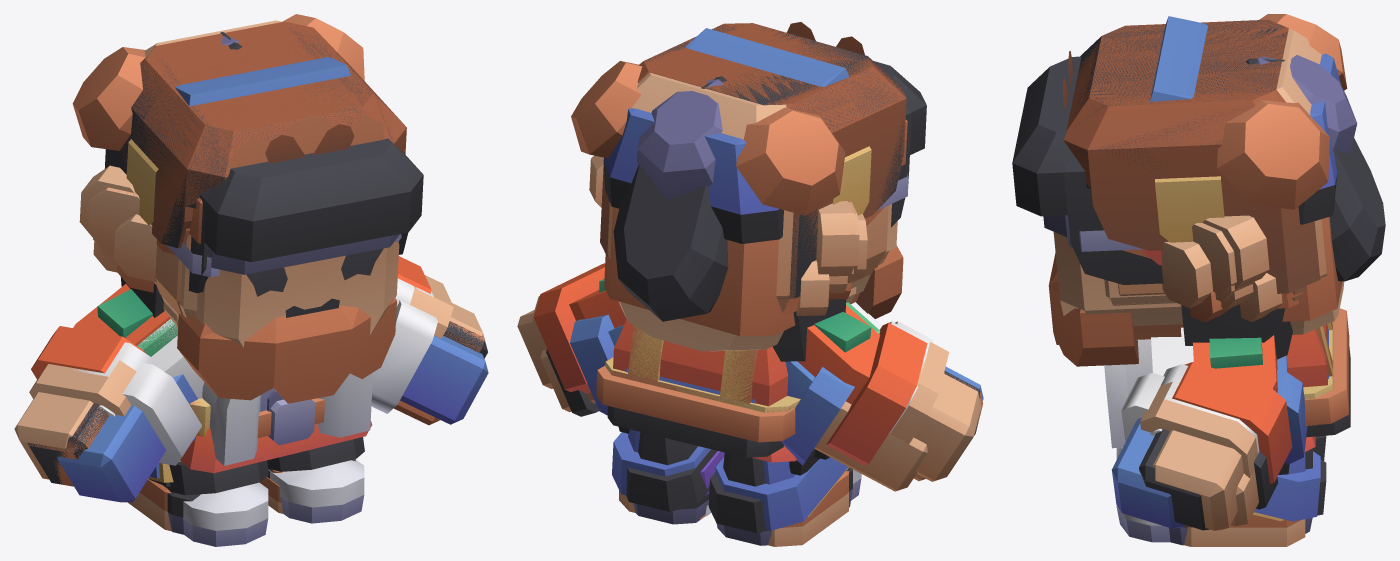
File: people.glb
3 views of the same model, side by side, from view 1: azimuth 30°, elevation 25°; view 2: azimuth 150°, elevation 25°; view 3: azimuth 270°, elevation 25° (orthographic). The views are drawn at different scales.
Parts seen in each view (by area): view 1: H_female_e, H_male_e, H_male_b, H_male_f, H_female_b, H_female_c, H_male_c, H_male_d; view 2: H_male_b, H_male_c, H_male_e, H_female_e, H_female_b, H_male_f, H_female_c; view 3: H_male_e, H_female_e, H_male_b, H_female_b, H_male_c, H_male_f, H_female_c, H_male_d.
Boxes of the visible parts, <box> form: H_female_e: <box>57,32,488,546</box>; H_male_e: <box>28,21,487,534</box>; H_male_b: <box>14,20,484,531</box>; H_male_f: <box>29,27,487,486</box>; H_female_b: <box>72,14,364,478</box>; H_female_c: <box>117,35,440,513</box>; H_male_c: <box>93,57,350,329</box>; H_male_d: <box>93,114,384,486</box>; H_male_b: <box>517,72,981,546</box>; H_male_c: <box>540,28,927,545</box>; H_male_e: <box>600,22,980,516</box>; H_female_e: <box>613,61,983,500</box>; H_female_b: <box>571,61,925,516</box>; H_male_f: <box>532,24,983,459</box>; H_female_c: <box>636,79,859,462</box>; H_male_e: <box>1063,19,1333,545</box>; H_female_e: <box>1012,56,1385,542</box>; H_male_b: <box>1048,28,1349,546</box>; H_female_b: <box>1155,14,1347,309</box>; H_male_c: <box>1150,16,1350,533</box>; H_male_f: <box>1069,20,1332,478</box>; H_female_c: <box>1043,55,1357,526</box>; H_male_d: <box>1114,249,1302,435</box>.
Size of the model in its own units: 1.09 by 1 by 0.7594.
Materials: 1 (1 with a texture image).
